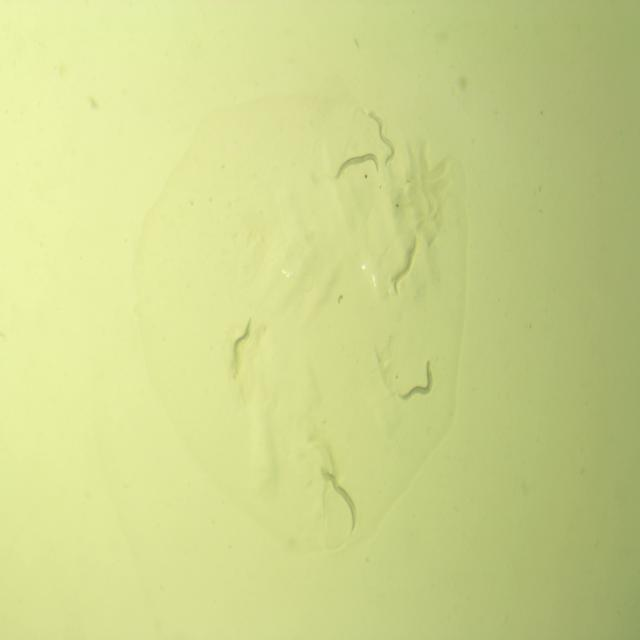worm: (318, 465, 359, 539), (365, 106, 398, 172), (388, 238, 421, 297), (330, 147, 381, 185), (227, 314, 255, 379), (399, 357, 435, 402)
